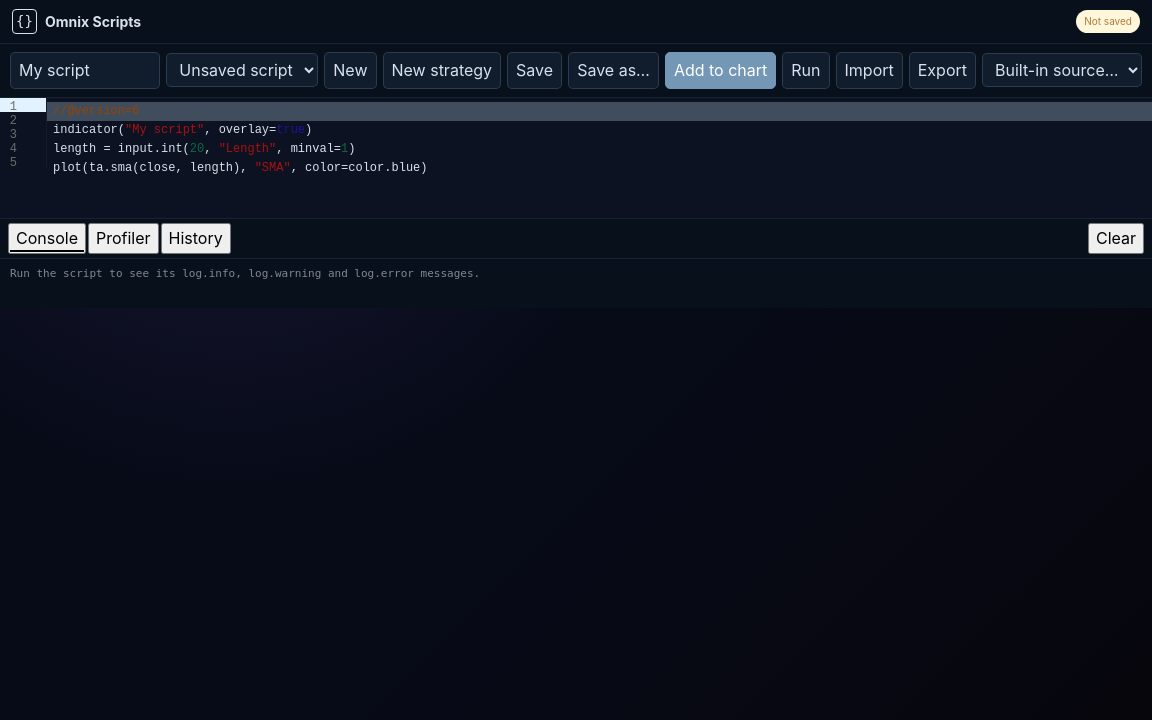
Test: TradingPinePanel (Omnix Scripts editor) › runs the script on the chart and shows its logs and profile
Step 1. Click the button "Run" → (806,70), box [782,52,830,89]
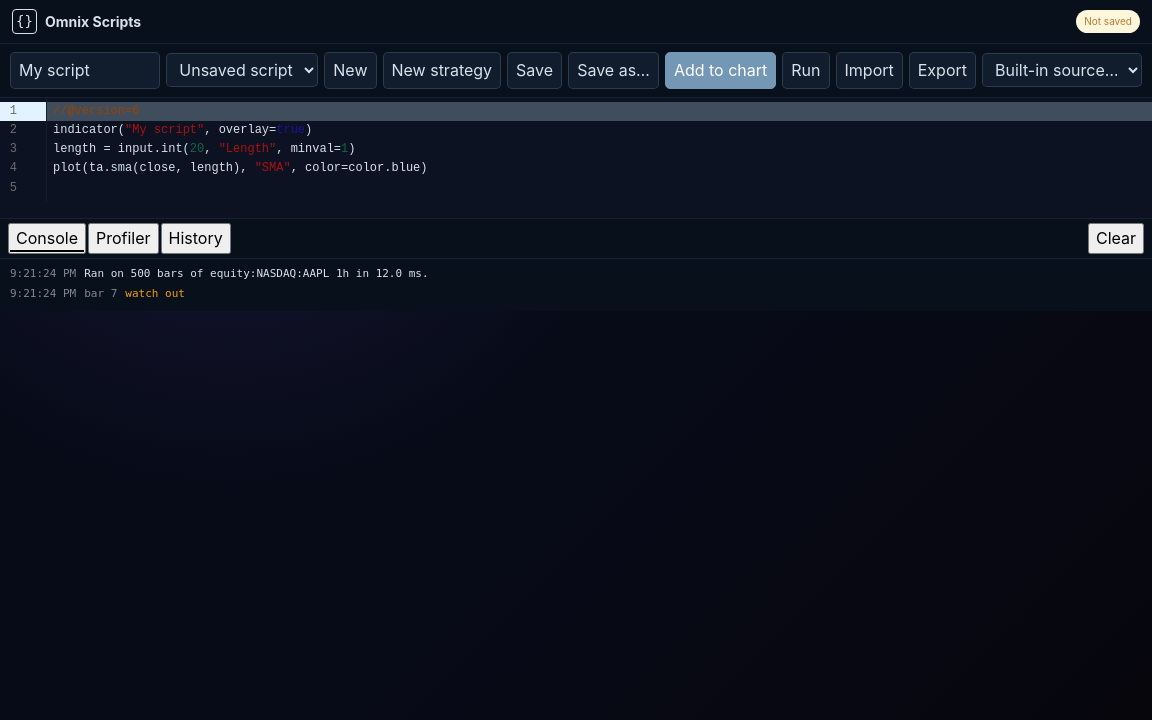
Result: the element named "Script console" shows "watch out" at [125,287,185,300]
Step 2. Click the tab "Profiler" → (123,238), box [88,223,159,254]
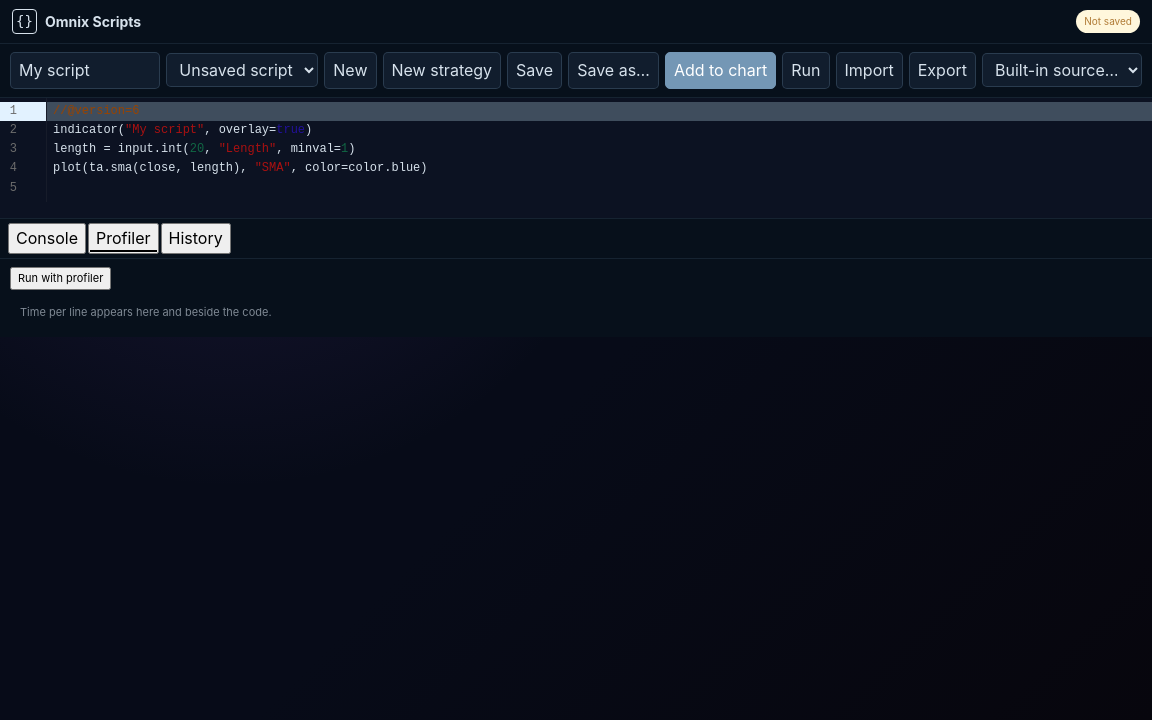
Step 3. Click the button "Run with profiler" → (61,278), box [10,267,111,290]
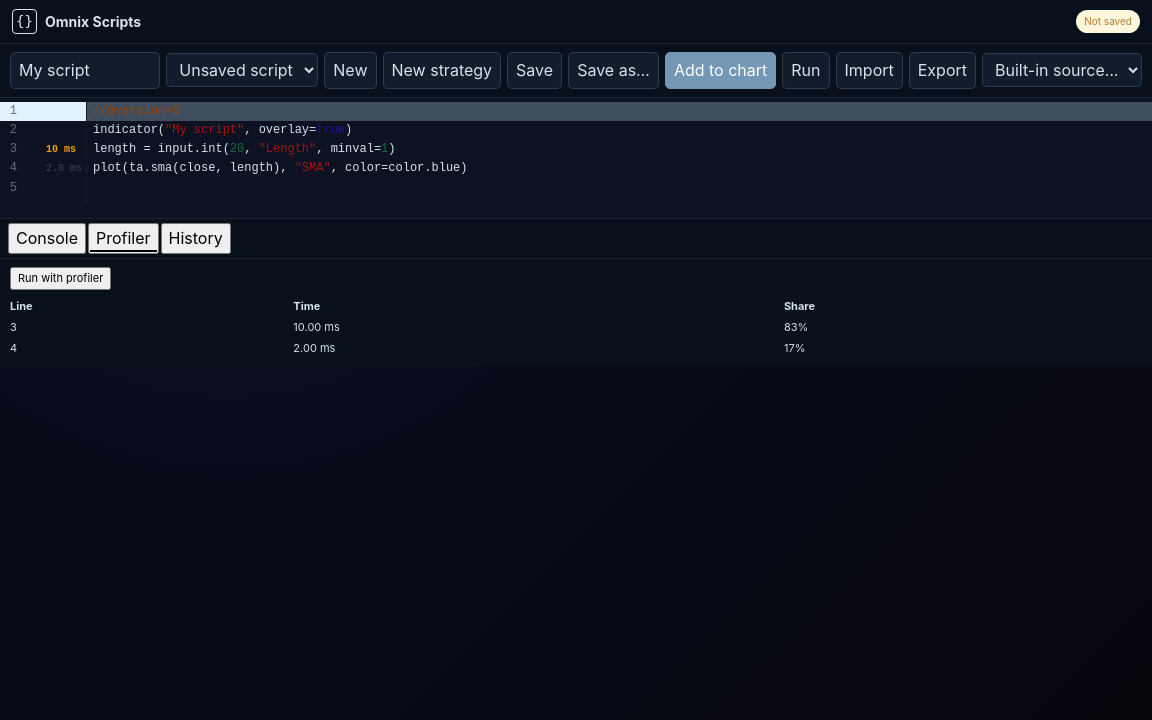
Result: the table named "Time per line" shows "83%" at [10,296,1142,359]
